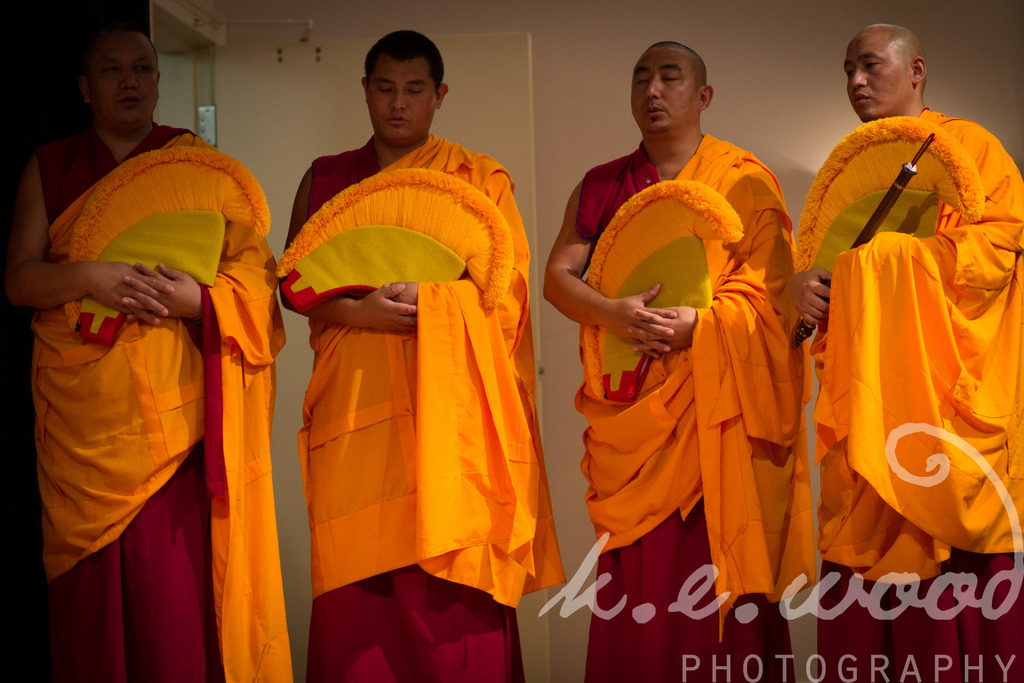Person: (272, 24, 566, 683), (2, 19, 289, 683), (541, 35, 818, 683), (786, 20, 1024, 682)
